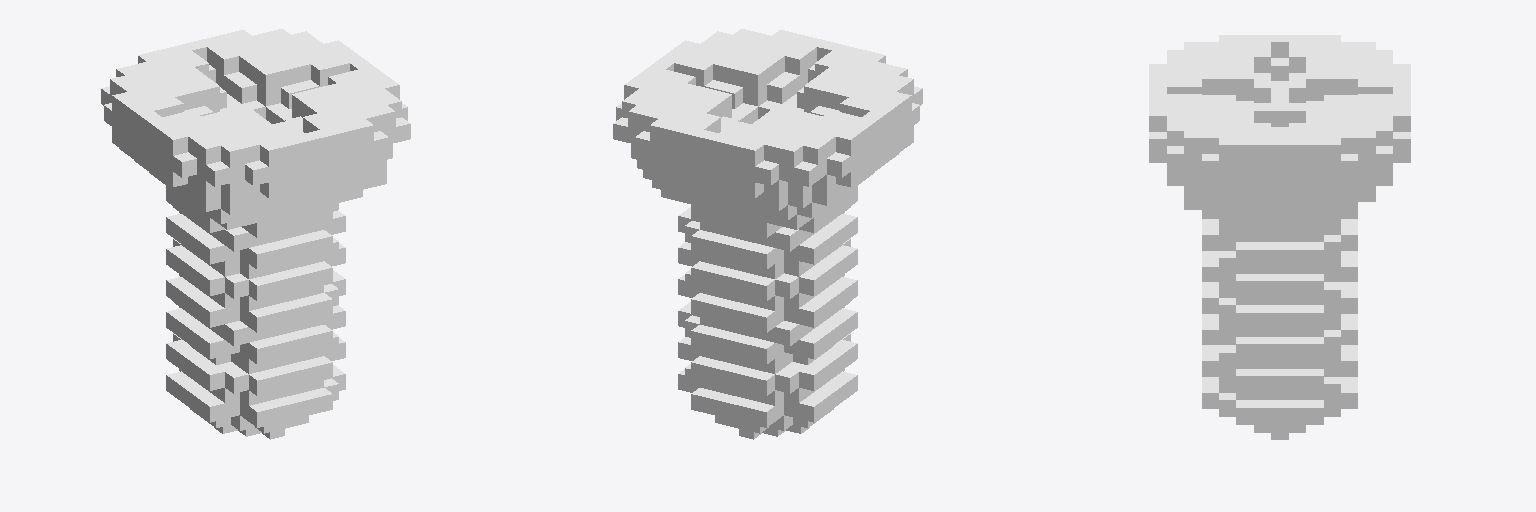
Rendered from screw_2_1.2.obj.
The picture shows the model from 3 angles: view 1: azimuth 30°, elevation 25°; view 2: azimuth 150°, elevation 25°; view 3: azimuth 270°, elevation 25°; orthographic projection.
Visible parts, largest first — view 1: object 1; view 2: object 1; view 3: object 1.
Part boxes in pixels (x1,y1,x2,y2): object 1: (101,29,410,439); object 1: (613,29,922,439); object 1: (1149,35,1410,439).
Size of the model in its own units: 1.5 by 2.1 by 1.5.